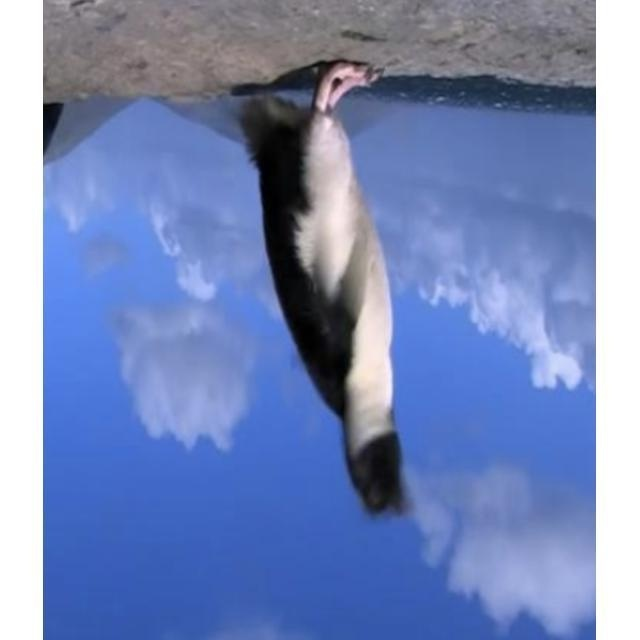penguin: (240, 58, 413, 519)
